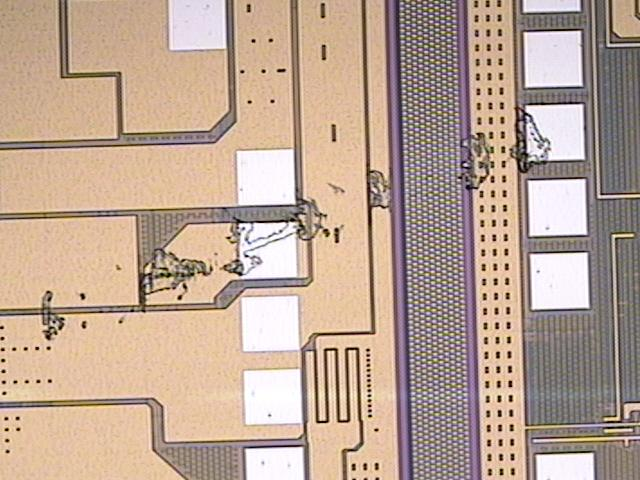SCRATCH: (35, 104, 560, 348)
